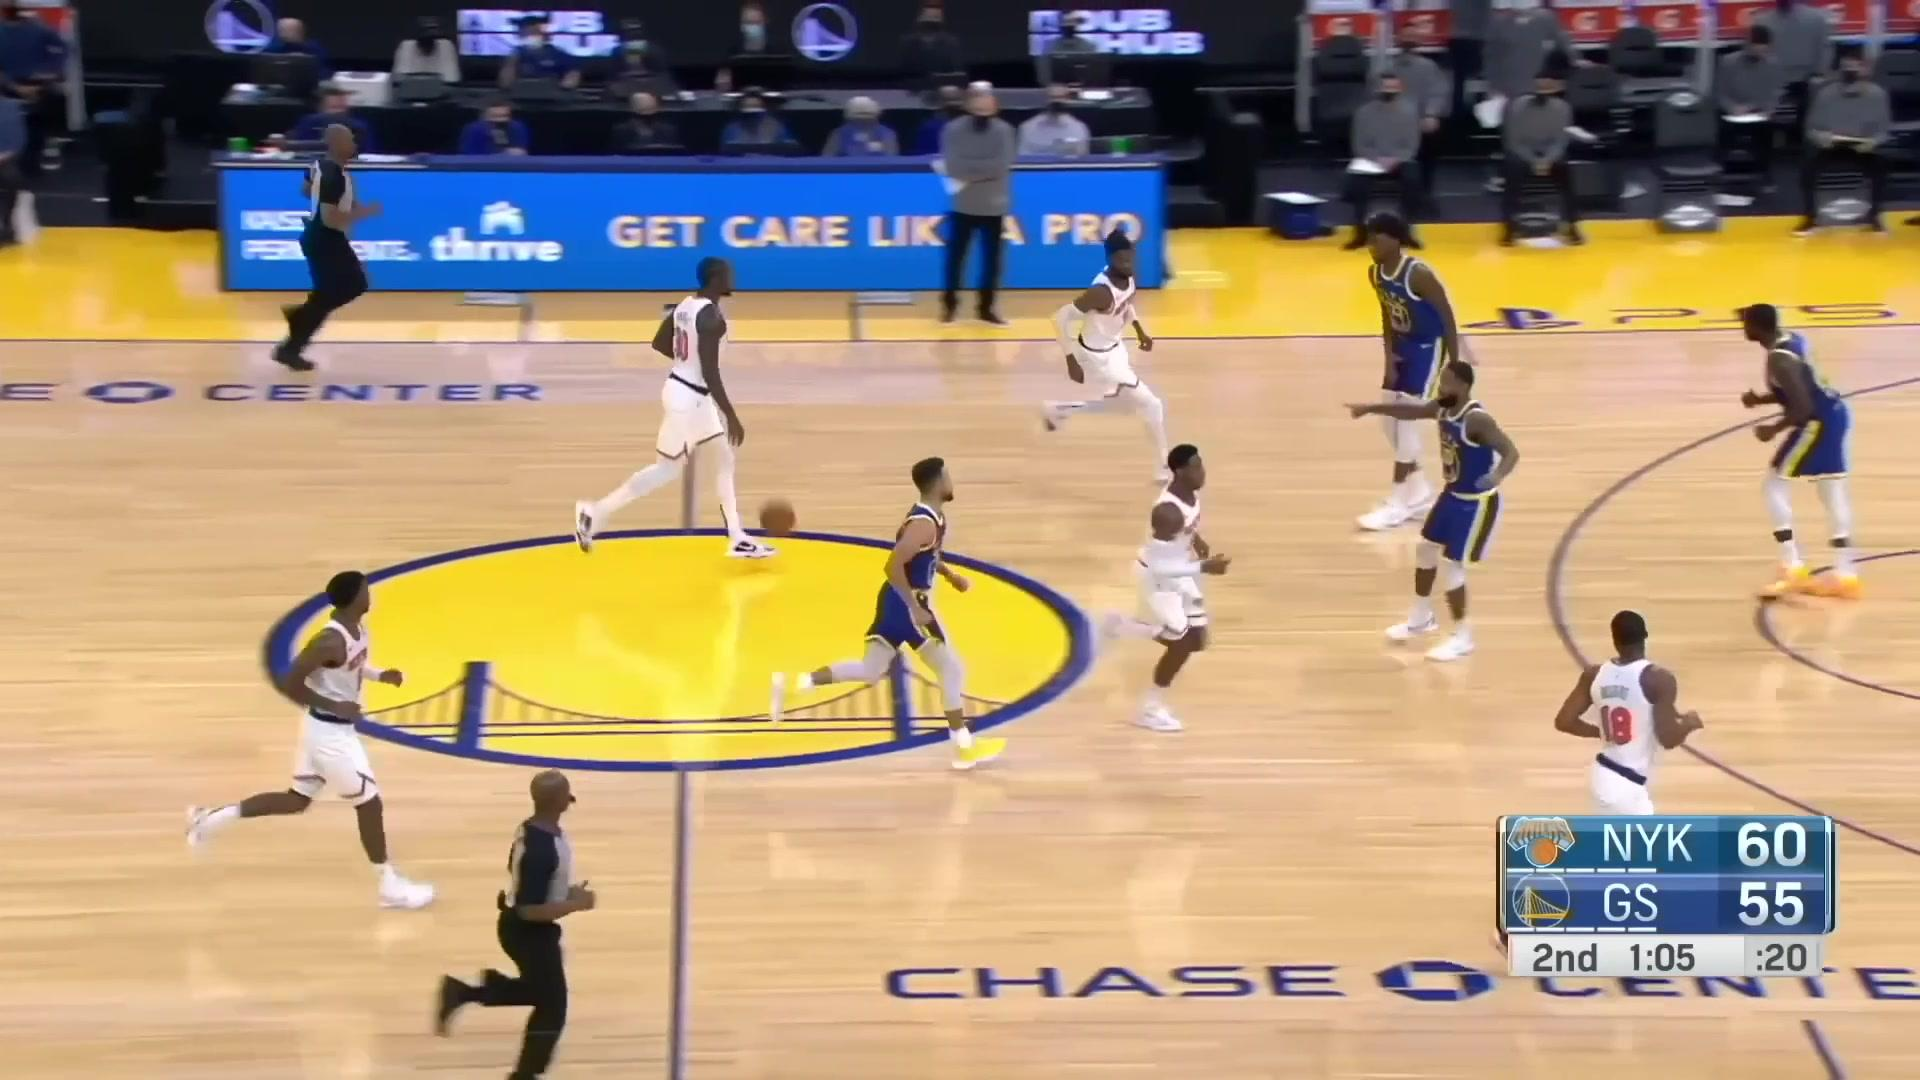no_foul: (584, 247, 827, 588)
